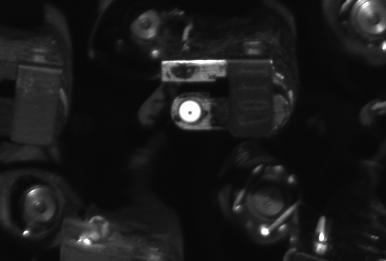fiber: (178, 98, 203, 127)
